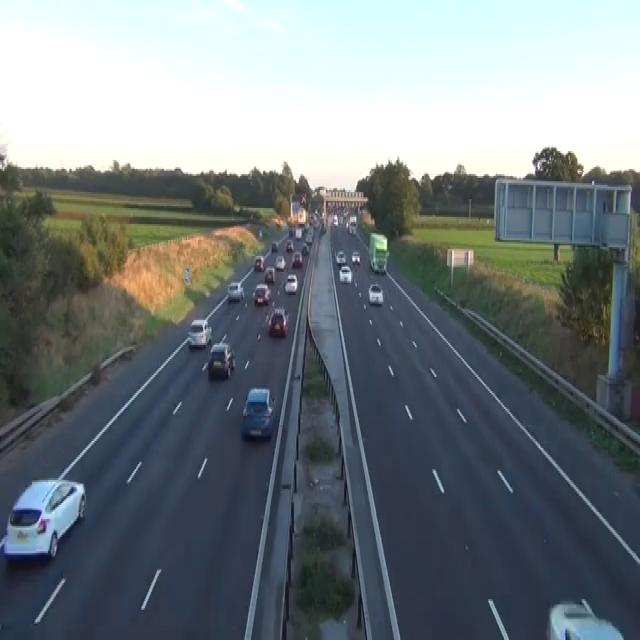Car: (3, 476, 86, 560), (546, 598, 624, 638), (241, 386, 276, 439), (208, 341, 235, 379), (187, 318, 212, 348), (266, 306, 288, 336), (252, 282, 271, 306), (227, 281, 244, 302), (368, 283, 383, 304), (224, 343, 235, 368), (284, 274, 297, 293), (339, 265, 351, 283), (291, 250, 303, 266), (335, 249, 346, 265), (264, 266, 275, 282), (254, 254, 264, 270), (275, 254, 285, 270), (351, 249, 360, 265), (301, 242, 308, 256), (305, 231, 312, 244), (285, 240, 293, 251), (349, 224, 356, 235), (302, 222, 309, 233), (295, 228, 302, 238), (333, 213, 338, 226), (349, 215, 356, 224), (288, 226, 294, 236), (275, 218, 281, 228), (314, 220, 320, 230), (271, 242, 278, 250), (258, 228, 262, 238), (345, 220, 349, 230), (322, 224, 326, 233)
Truck: (368, 231, 389, 274), (348, 215, 356, 235)
